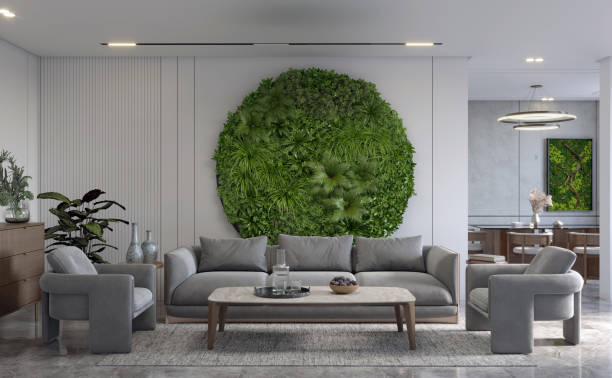chair: (461, 245, 586, 356), (38, 244, 160, 356)
flower vase: (529, 188, 550, 227)
large plant: (38, 186, 129, 264)
small plant: (0, 147, 34, 223)
sofa: (162, 230, 461, 327)
table: (203, 283, 419, 353)
wall art: (542, 133, 594, 213)
